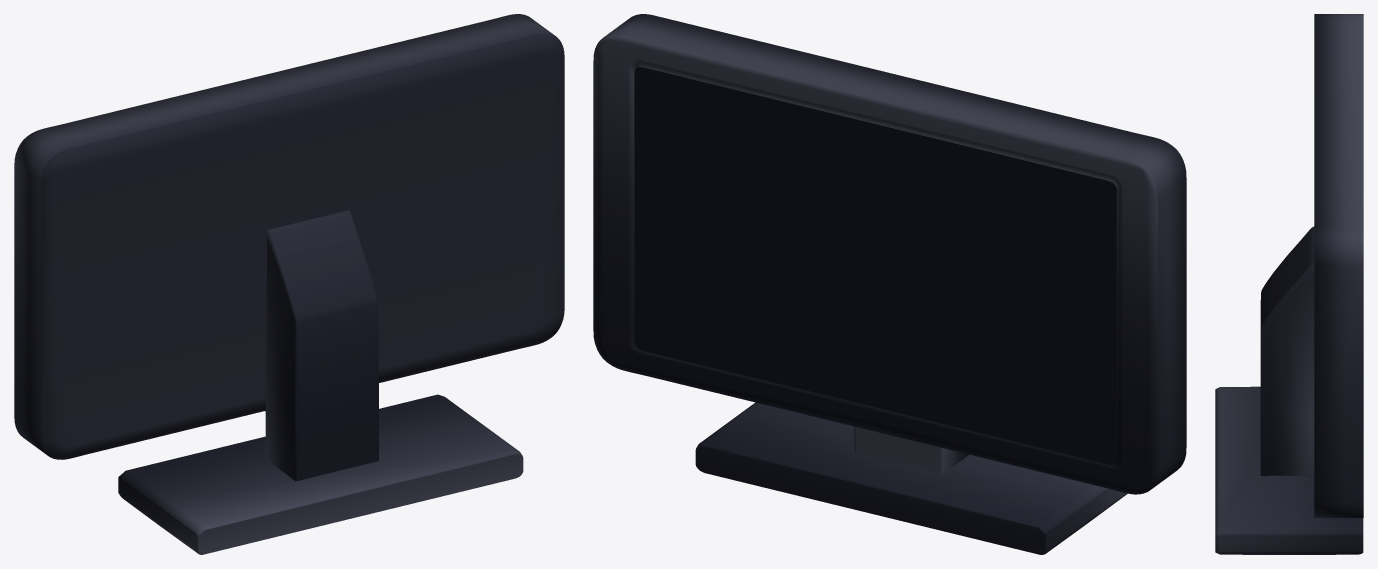
File: Monitor_LOD_1.fbx
3 views of the same model, side by side, from view 1: azimuth 30°, elevation 25°; view 2: azimuth 150°, elevation 25°; view 3: azimuth 270°, elevation 25° (orthographic). The views are drawn at different scales.
Visible parts, largest first — view 1: Monitor_LOD1; view 2: Monitor_LOD1; view 3: Monitor_LOD1.
Boxes of the visible parts, box(x1,y1,x2,y2) form: Monitor_LOD1: box(14, 14, 564, 554); Monitor_LOD1: box(593, 14, 1186, 554); Monitor_LOD1: box(1215, 14, 1363, 554).
Size of the model in its own units: 152 by 108 by 40.37.
